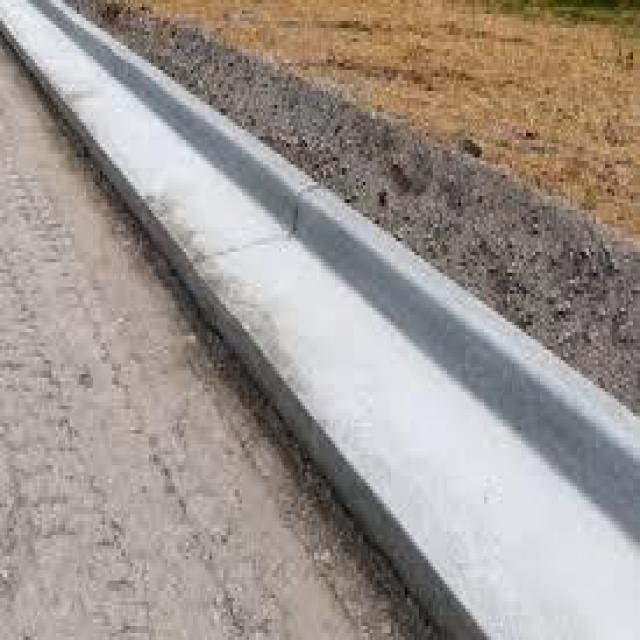curb: (5, 1, 640, 640)
